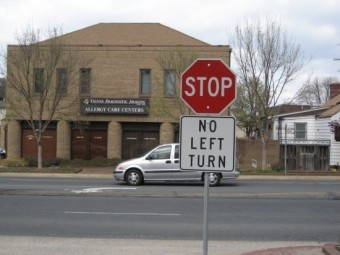SS: (180, 58, 236, 116)
